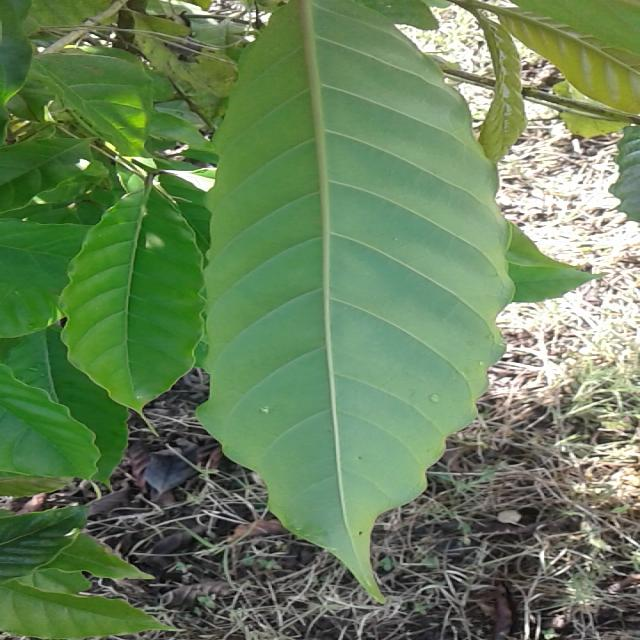Sanas: (195, 0, 540, 604)
